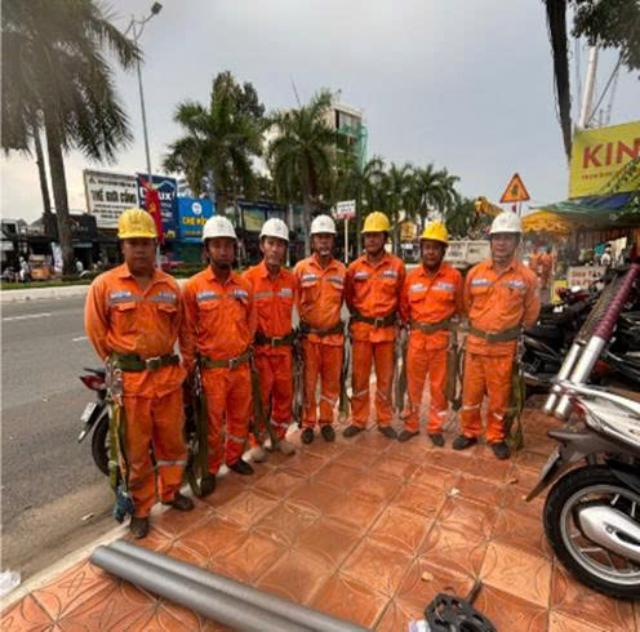harness: (111, 343, 188, 376), (190, 345, 269, 369), (461, 316, 528, 344), (350, 305, 402, 337), (298, 314, 351, 341), (250, 323, 297, 353), (405, 313, 453, 335)
helmet: (117, 207, 159, 246), (196, 213, 240, 247), (262, 202, 289, 245), (417, 222, 455, 244), (490, 213, 524, 237), (359, 209, 389, 234), (309, 214, 336, 236)
shoes: (159, 488, 196, 515), (227, 449, 256, 479), (122, 511, 152, 538), (422, 419, 449, 448), (193, 470, 223, 495), (448, 432, 480, 454), (269, 432, 295, 458), (341, 418, 367, 441), (374, 422, 400, 443), (314, 425, 339, 444), (491, 436, 510, 461), (399, 424, 419, 447), (301, 426, 315, 446)
